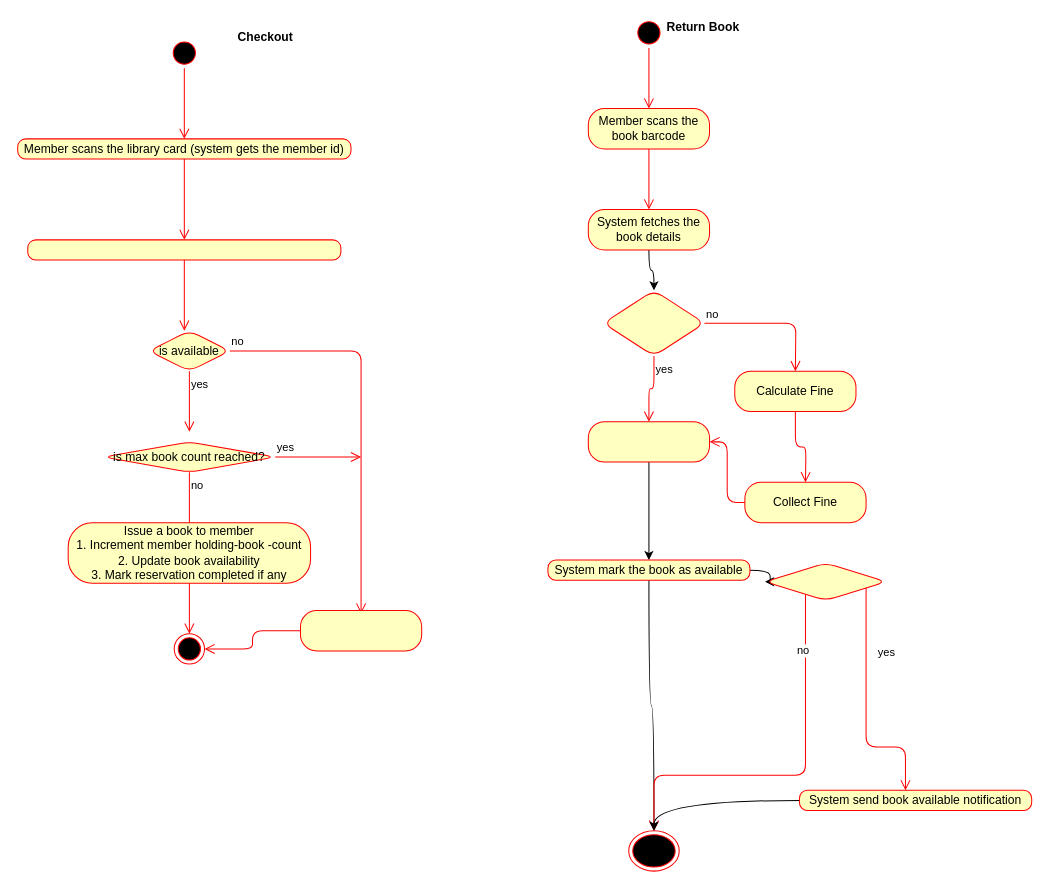
Image size: 1049x889. Some labels were removed from this diagram. The shapes that lost their labels are listed below. From the top down, each one's centre as x and y in pixels, then its label:
point 184,249: Member scans Book barcode (system gets the bookId)
point 653,322: is the returned before duedate
point 648,441: System decrements holding books count
point 825,581: Is the book resevred
point 360,630: show error message
